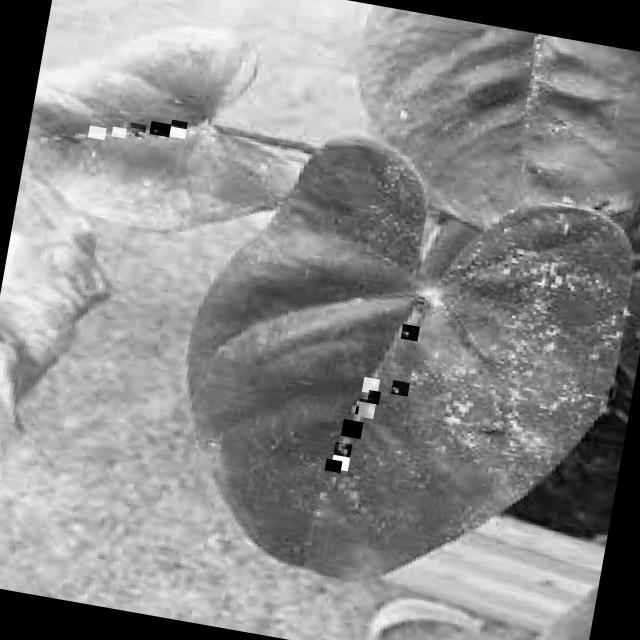scale_insect: (340, 418, 362, 438), (148, 120, 170, 136), (400, 324, 419, 342), (390, 379, 410, 396), (330, 454, 350, 471), (357, 401, 375, 419), (362, 376, 379, 394), (333, 442, 352, 458), (128, 122, 146, 138), (87, 125, 106, 140), (324, 458, 342, 473), (169, 126, 186, 140), (170, 119, 187, 132), (366, 390, 381, 404), (354, 398, 366, 415), (110, 126, 126, 138)
